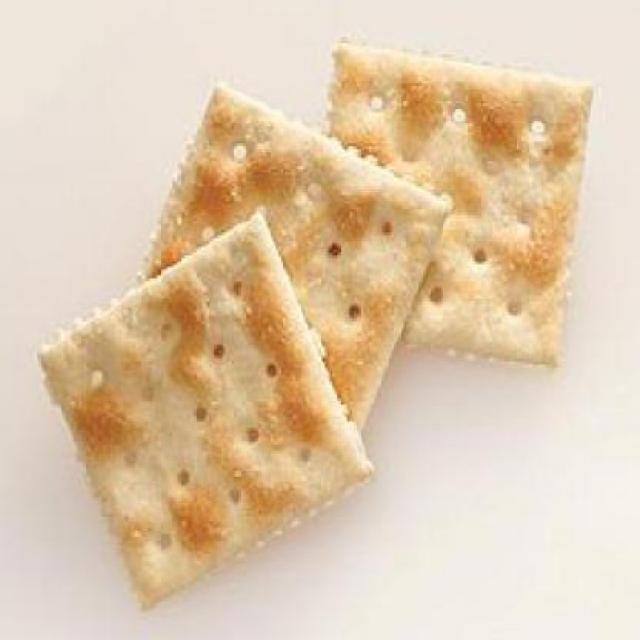Cracker packaged: (32, 215, 374, 623), (131, 83, 463, 471), (300, 28, 603, 380)
